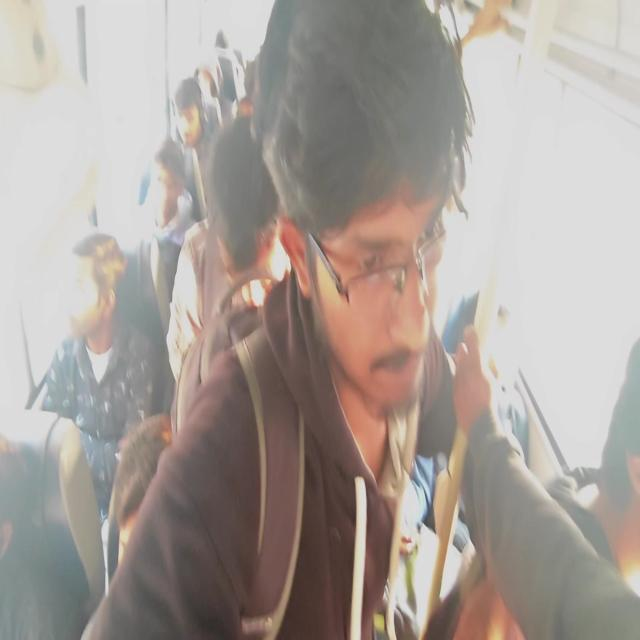person: (277, 43, 449, 414), (115, 444, 202, 640), (605, 346, 640, 618), (212, 149, 276, 282), (57, 254, 117, 364), (482, 290, 532, 406), (0, 468, 29, 603), (151, 137, 178, 222), (173, 74, 205, 138), (197, 54, 222, 103), (241, 58, 266, 104), (215, 30, 227, 60)
